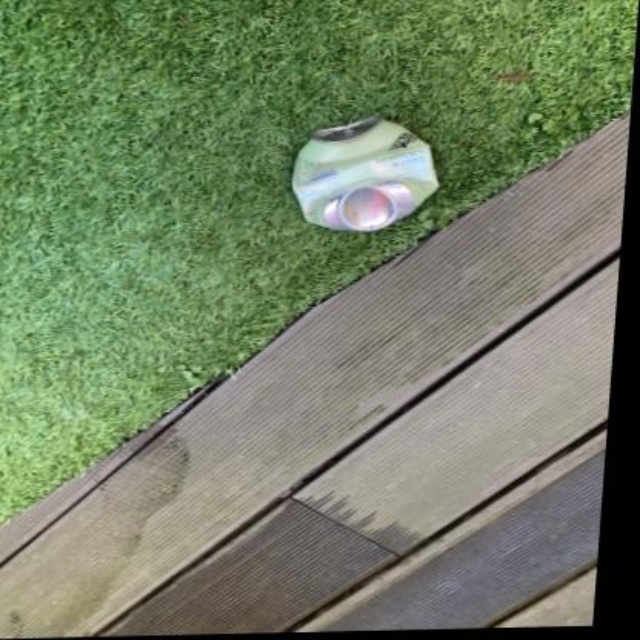trash: (292, 117, 437, 231)
